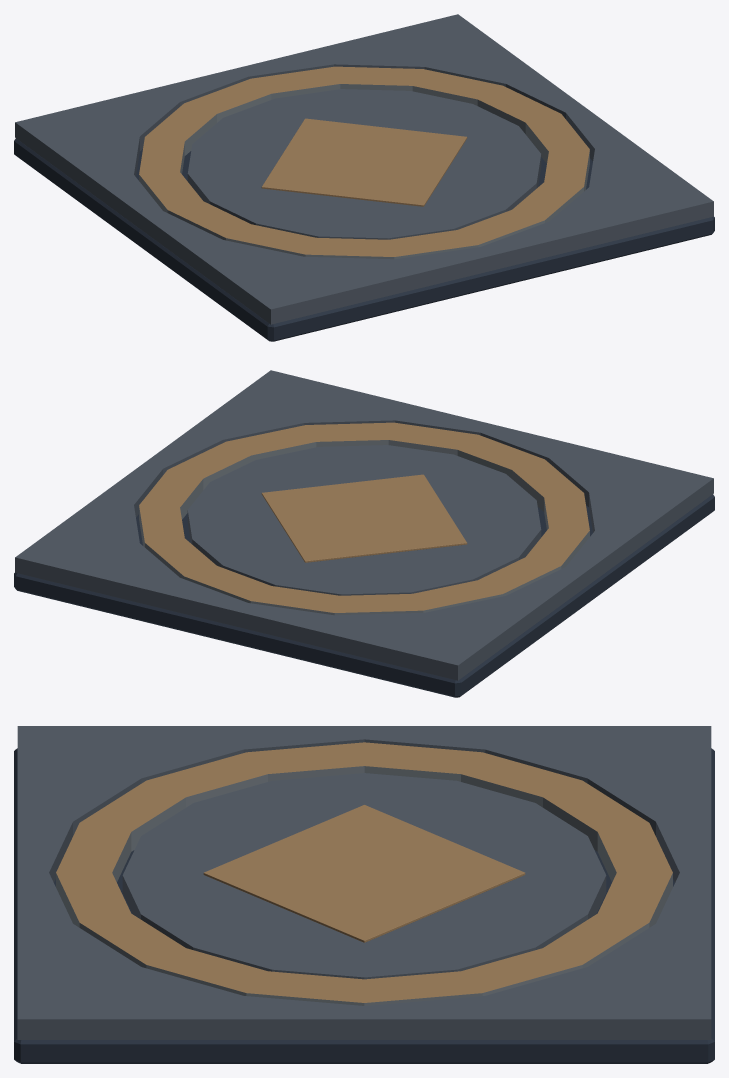
The model's file is floor-radial.glb.
3 views of the same model, one above another, from view 1: azimuth 30°, elevation 25°; view 2: azimuth 150°, elevation 25°; view 3: azimuth 270°, elevation 25° (orthographic). The views are drawn at different scales.
Visible parts, largest first — view 1: floor-radial__body; view 2: floor-radial__body; view 3: floor-radial__body.
Boxes of the visible parts, box(x1,y1,x2,y2) form: floor-radial__body: box(14, 14, 714, 341); floor-radial__body: box(14, 370, 714, 697); floor-radial__body: box(14, 726, 714, 1063).
Bounding box in the file's own units: 2 × 0.14 × 2.
